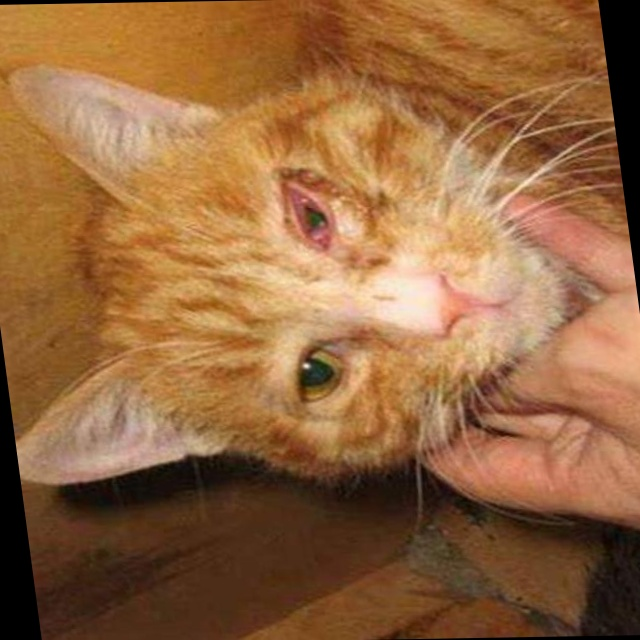eye_infection: (278, 179, 344, 251), (288, 338, 352, 400)
